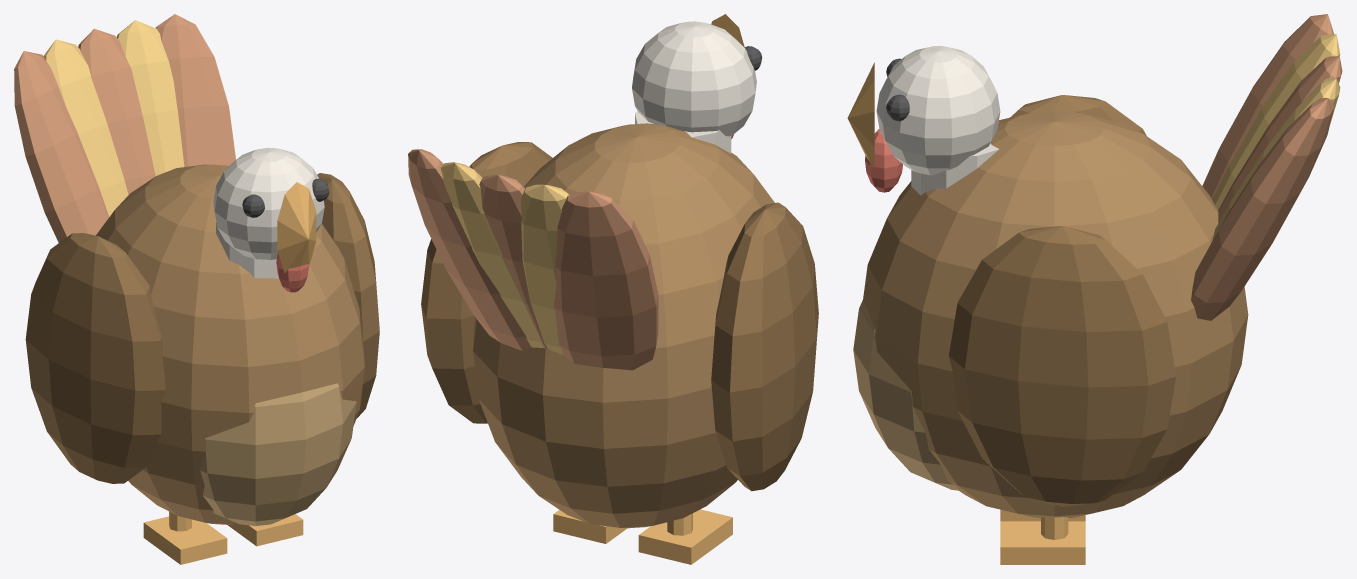
Rendered from turkey.glb.
The picture shows the model from 3 angles, left to right: view 1: azimuth 30°, elevation 25°; view 2: azimuth 150°, elevation 25°; view 3: azimuth 270°, elevation 25°; orthographic projection. The views are drawn at different scales.
Visible parts, largest first — view 1: Turkey_Body, Turkey_Wing_L, Turkey_Belly, Turkey_Tail_1, Turkey_Tail_5, Turkey_Head, Turkey_Tail_3, Turkey_Tail_4, Turkey_Tail_2, Turkey_Wing_R, Turkey_Beak, Turkey_Foot_L (+3 smaller); view 2: Turkey_Body, Turkey_Wing_L, Turkey_Tail_1, Turkey_Head, Turkey_Wing_R, Turkey_Tail_5, Turkey_Tail_2, Turkey_Tail_4, Turkey_Tail_3, Turkey_Foot_L, Turkey_Foot_R, Turkey_Neck; view 3: Turkey_Body, Turkey_Wing_R, Turkey_Head, Turkey_Tail_5, Turkey_Belly, Turkey_Tail_1, Turkey_Tail_2, Turkey_Foot_R, Turkey_Tail_3, Turkey_Wing_L, Turkey_Beak, Turkey_Tail_4 (+2 smaller).
Part boxes in pixels (left/top/right/bottom): Turkey_Body: left=96, top=164, right=364, bottom=524; Turkey_Wing_L: left=25, top=233, right=165, bottom=483; Turkey_Belly: left=200, top=383, right=356, bottom=525; Turkey_Tail_1: left=14, top=51, right=109, bottom=242; Turkey_Tail_5: left=155, top=14, right=235, bottom=166; Turkey_Head: left=213, top=147, right=324, bottom=260; Turkey_Tail_3: left=78, top=28, right=155, bottom=194; Turkey_Tail_4: left=117, top=20, right=184, bottom=175; Turkey_Tail_2: left=44, top=39, right=128, bottom=216; Turkey_Wing_R: left=317, top=173, right=379, bottom=418; Turkey_Beak: left=277, top=182, right=316, bottom=273; Turkey_Foot_L: left=143, top=516, right=227, bottom=564; Turkey_Body: left=473, top=123, right=774, bottom=528; Turkey_Wing_L: left=711, top=202, right=818, bottom=491; Turkey_Tail_1: left=553, top=191, right=658, bottom=370; Turkey_Head: left=632, top=21, right=756, bottom=136; Turkey_Wing_R: left=421, top=142, right=552, bottom=423; Turkey_Tail_5: left=408, top=149, right=531, bottom=350; Turkey_Tail_2: left=521, top=184, right=569, bottom=354; Turkey_Tail_4: left=440, top=162, right=543, bottom=347; Turkey_Tail_3: left=479, top=174, right=547, bottom=348; Turkey_Foot_L: left=638, top=509, right=732, bottom=564; Turkey_Foot_R: left=553, top=510, right=626, bottom=543; Turkey_Neck: left=635, top=111, right=731, bottom=153; Turkey_Body: left=863, top=110, right=1248, bottom=517; Turkey_Wing_R: left=949, top=225, right=1175, bottom=506; Turkey_Head: left=876, top=46, right=1000, bottom=175; Turkey_Tail_5: left=1191, top=98, right=1333, bottom=320; Turkey_Belly: left=853, top=300, right=958, bottom=490; Turkey_Tail_1: left=1202, top=14, right=1333, bottom=198; Turkey_Tail_2: left=1212, top=34, right=1340, bottom=210; Turkey_Foot_R: left=1000, top=521, right=1085, bottom=564; Turkey_Tail_3: left=1218, top=56, right=1342, bottom=222; Turkey_Wing_L: left=1010, top=95, right=1146, bottom=135; Turkey_Beak: left=847, top=62, right=874, bottom=169; Turkey_Tail_4: left=1212, top=78, right=1340, bottom=240.
Bounding box in the file's own units: 1.06 × 1.37 × 1.28.
